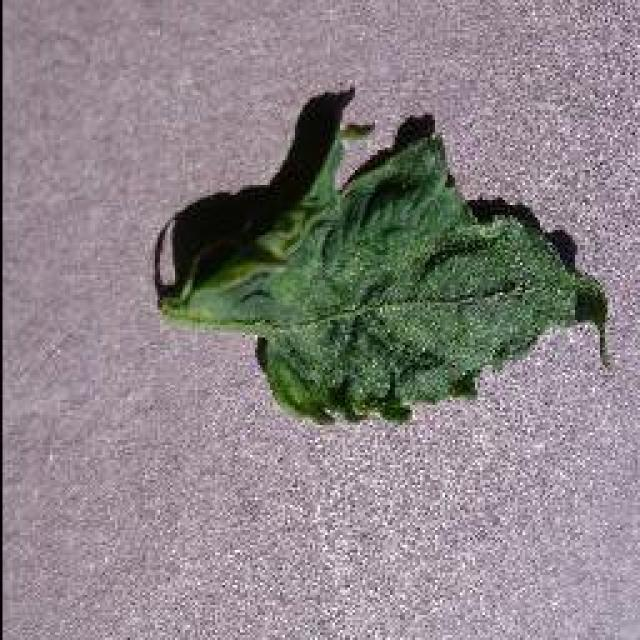Tomato___Tomato_mosaic_virus: (162, 128, 602, 418)
